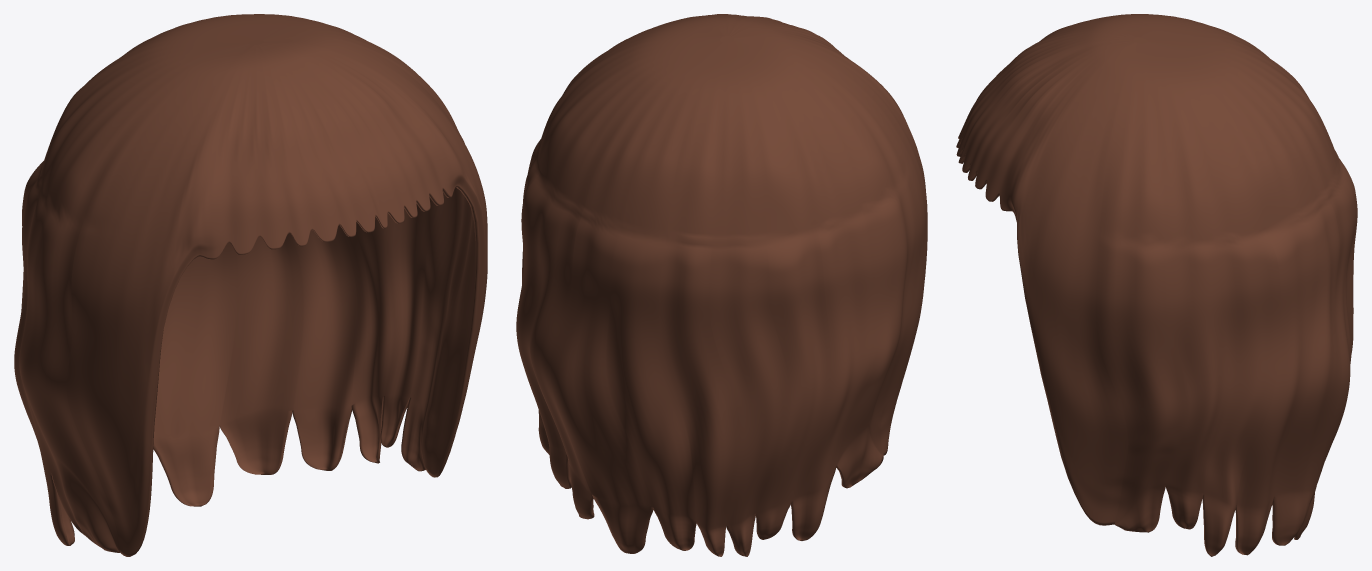
File: long-bucket.glb
3 views of the same model, side by side, from view 1: azimuth 30°, elevation 25°; view 2: azimuth 150°, elevation 25°; view 3: azimuth 270°, elevation 25° (orthographic). The views are drawn at different scales.
Parts seen in each view (by area): view 1: Hair / rounded long fringe; view 2: Hair / rounded long fringe; view 3: Hair / rounded long fringe.
Part boxes in pixels (box(x1,y1,x2,y2)): Hair / rounded long fringe: box(14, 14, 487, 556); Hair / rounded long fringe: box(516, 14, 927, 556); Hair / rounded long fringe: box(956, 14, 1357, 556).
Bounding box in the file's own units: 0.8534 × 1.05 × 0.7801.
